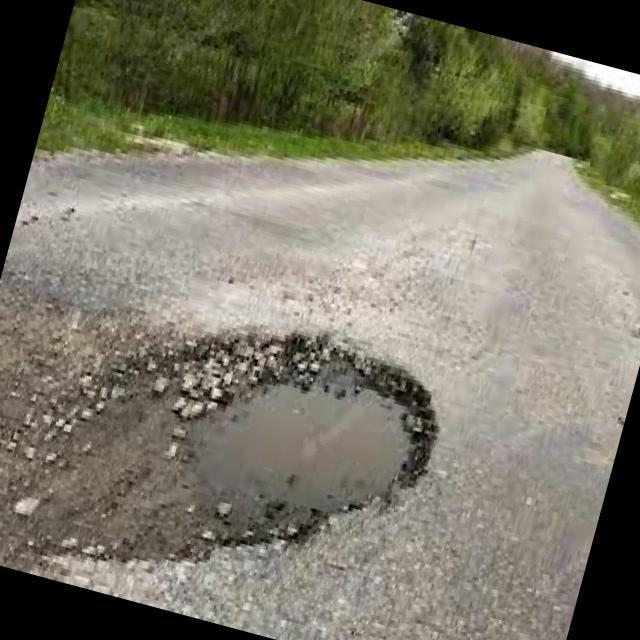Pothole: (100, 332, 437, 563)
